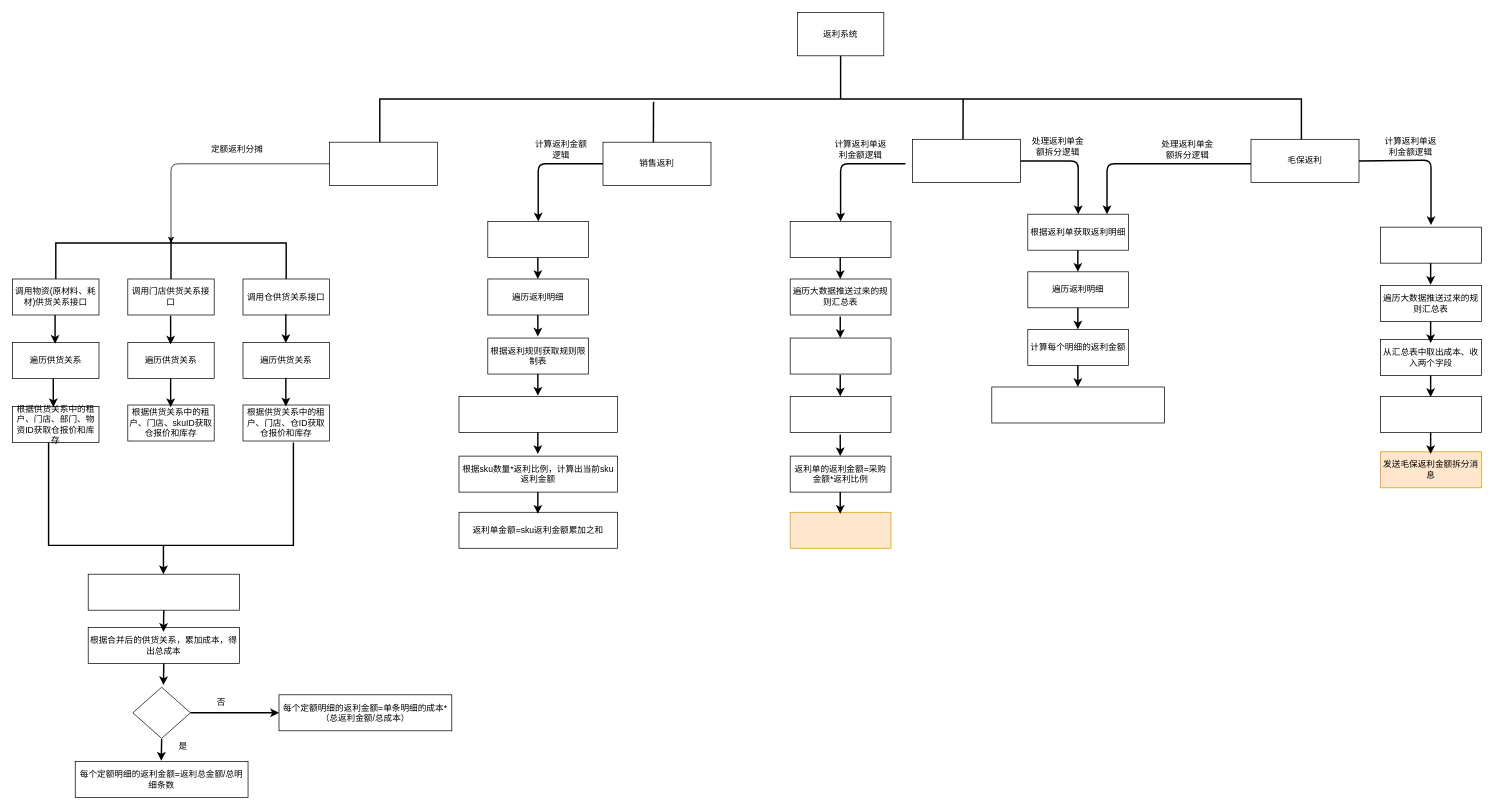
Image size: 1494x810. Some labels were removed from this diagram. The centre of each missing label's shape, as x and y in pixels:
"发送规模返利金额拆分消息" goes at point 840,530.
"合并供货关系" goes at point 163,591.
"如果返利单金额与返利明细金额之和不相相等，则将差值补充到返利明细上" goes at point 1078,404.
"如果返利明细中的skuId与限制表中的skuId相等，则取出skuId对应的返利比例" goes at point 537,414.
"定额返利" goes at point 383,163.
"是否总成本<=0" goes at point 161,712.
"根据当前规则的总的采购金额，确定在哪个阶梯里，得到返利比例" goes at point 840,414.
"根据毛保返利规则，获取大数据推送过来的规则汇总表" goes at point 1430,244.
"根据规模返利规则，获取大数据推送过来的规则汇总表" goes at point 840,239.
"根据返利规则，获取此规则的阶梯列表" goes at point 840,355.
"根据销售返利规则，获取大数据推送过来的规则明细" goes at point 538,239.
"规模返利" goes at point 966,161.
"返利单的返利金额=收入*返利比例-(收入-成本)" goes at point 1430,414.
